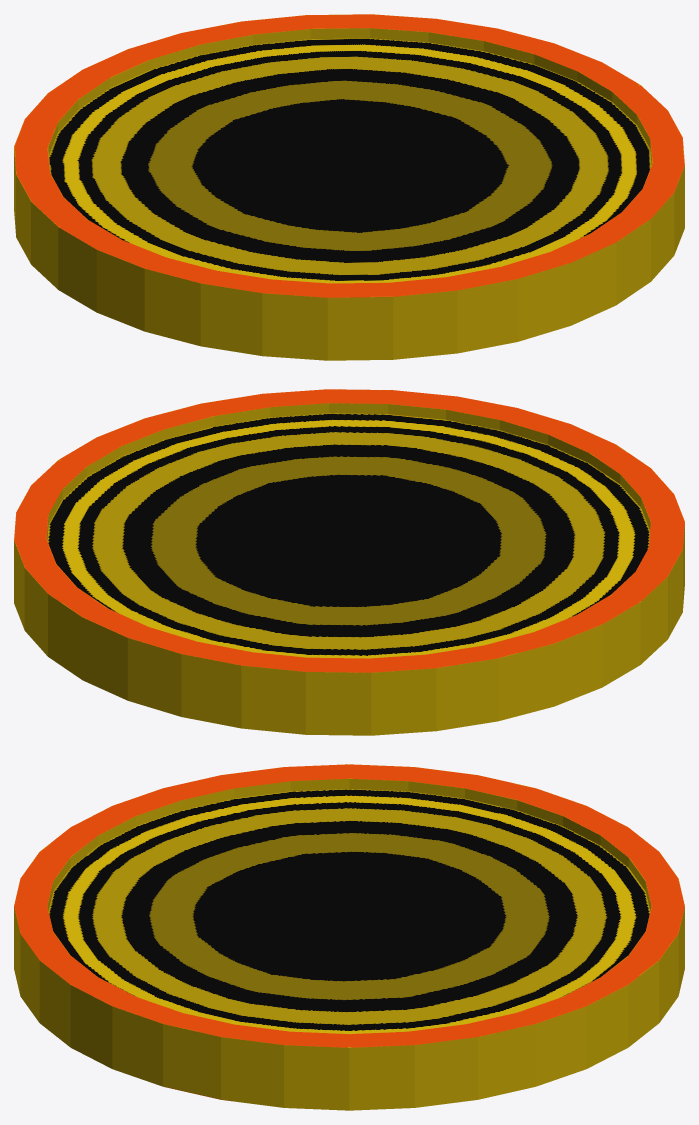
File: coin.fbx
3 renders of one model, top to bottom at view 1: azimuth 30°, elevation 25°; view 2: azimuth 150°, elevation 25°; view 3: azimuth 270°, elevation 25°, orthographic.
Visible parts, largest first — view 1: coin; view 2: coin; view 3: coin.
Boxes of the visible parts, x1,y1,x2,y2 form: coin: [14, 14, 684, 360]; coin: [14, 389, 684, 735]; coin: [14, 764, 684, 1110].
Bounding box in the file's own units: 1.58 × 0.1631 × 1.58.
Materials: 1 (1 with a texture image).
